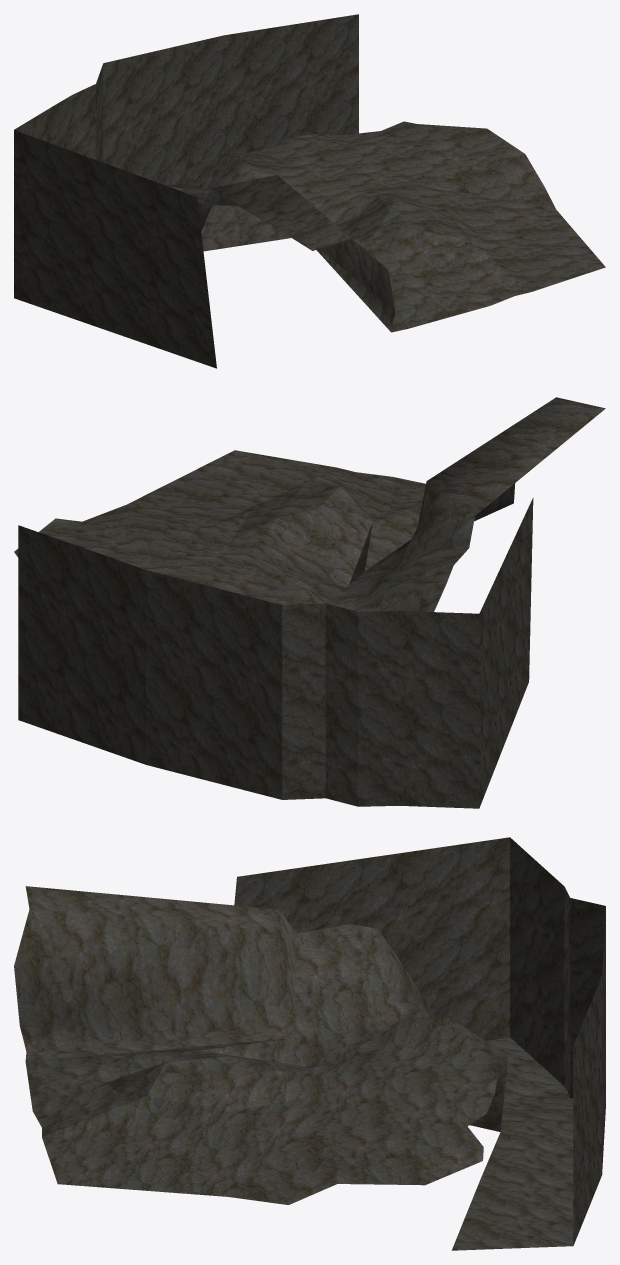
File: terrain_section02_guanka10D_03.FBX
3 views of the same model, one above another, from view 1: azimuth 30°, elevation 25°; view 2: azimuth 150°, elevation 25°; view 3: azimuth 270°, elevation 25° (orthographic). The views are drawn at different scales.
Parts seen in each view (by area): view 1: terrain_section02_guanka10D_03; view 2: terrain_section02_guanka10D_03; view 3: terrain_section02_guanka10D_03.
Boxes of the visible parts, <box> form: terrain_section02_guanka10D_03: <box>14,14,605,368</box>; terrain_section02_guanka10D_03: <box>14,397,605,808</box>; terrain_section02_guanka10D_03: <box>14,837,605,1250</box>.
Bounding box in the file's own units: 292 × 287 × 112.
